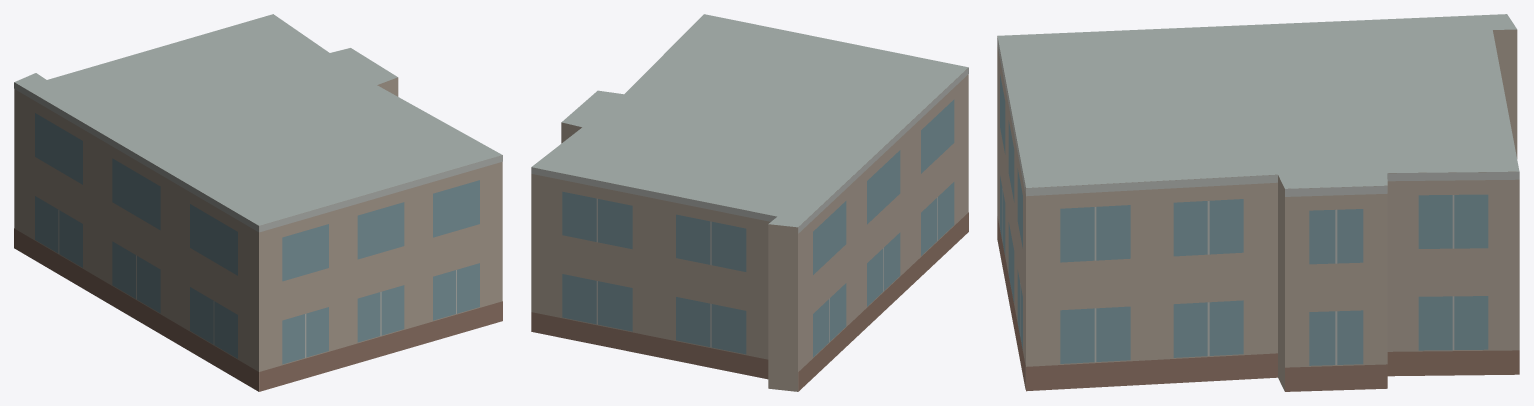
Rendered from survey-upis-32876433.glb.
The picture shows the model from 3 angles, left to right: view 1: azimuth 30°, elevation 25°; view 2: azimuth 150°, elevation 25°; view 3: azimuth 270°, elevation 25°; orthographic projection. The views are drawn at different scales.
Visible parts, largest first — view 1: survey-upis-32876433.tmp; view 2: survey-upis-32876433.tmp; view 3: survey-upis-32876433.tmp.
Part boxes in pixels (x1,y1,x2,y2): survey-upis-32876433.tmp: [14, 14, 502, 391]; survey-upis-32876433.tmp: [531, 14, 968, 391]; survey-upis-32876433.tmp: [997, 14, 1519, 391].
Bounding box in the file's own units: 11.28 × 6.1 × 14.23.
